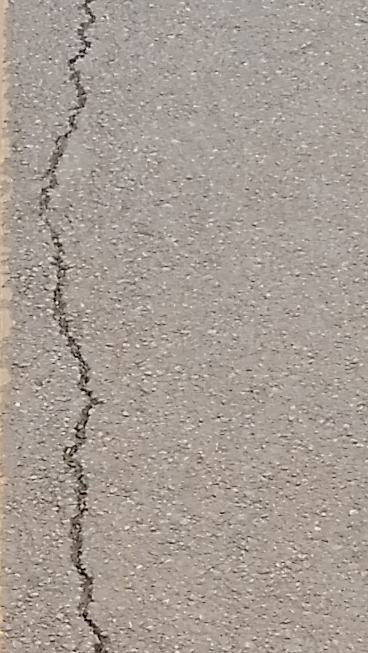A: (23, 4, 132, 653)
